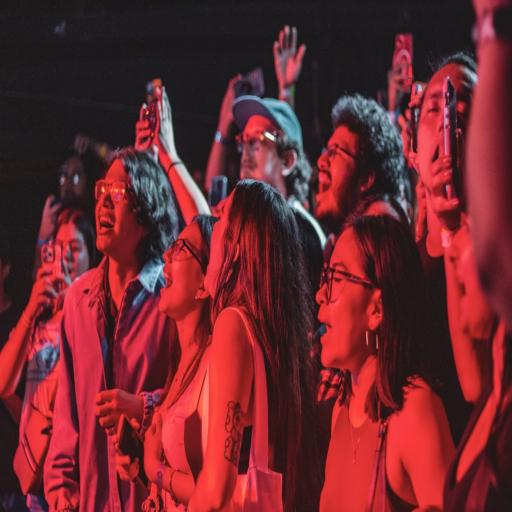face: (315, 250, 360, 372), (420, 81, 469, 189), (316, 124, 358, 218), (92, 167, 134, 251), (158, 224, 194, 317), (236, 121, 272, 185)
